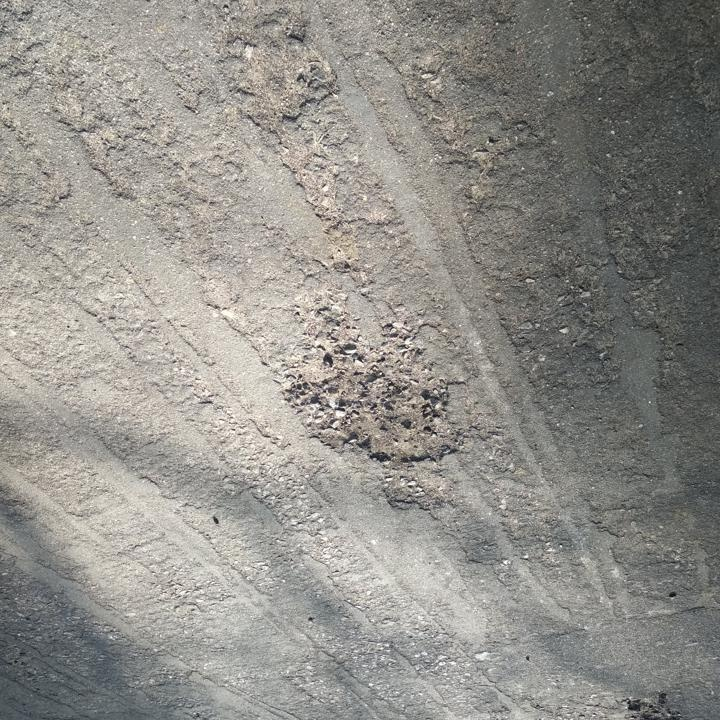pothole: (267, 317, 468, 470), (378, 471, 443, 514)
